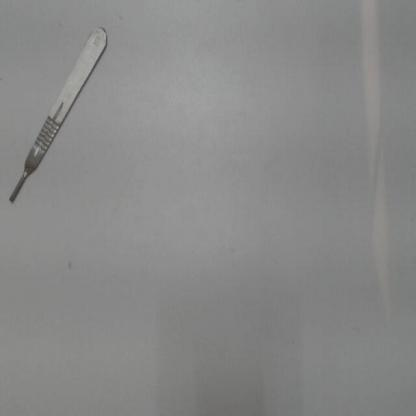No.3 BP Handle: (5, 22, 117, 215)
